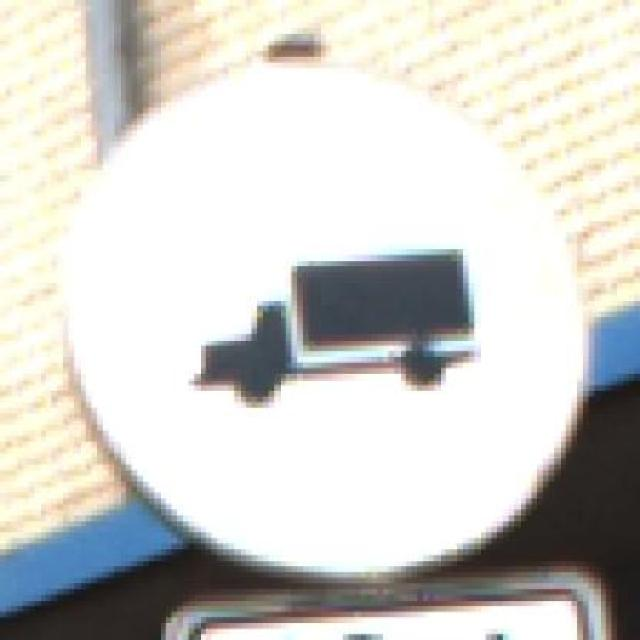Truck traffic is prohibited: (63, 34, 600, 589)
